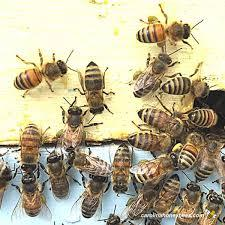worker-bee: (13, 53, 70, 92), (131, 55, 183, 97), (75, 62, 112, 116), (132, 17, 195, 47), (150, 169, 180, 225), (133, 146, 180, 180), (59, 102, 90, 153), (134, 106, 185, 137), (79, 166, 108, 220), (70, 145, 116, 179), (15, 174, 48, 221), (110, 138, 134, 197), (17, 117, 41, 175), (193, 136, 221, 183), (44, 149, 69, 201), (203, 185, 225, 225), (183, 175, 199, 225)
